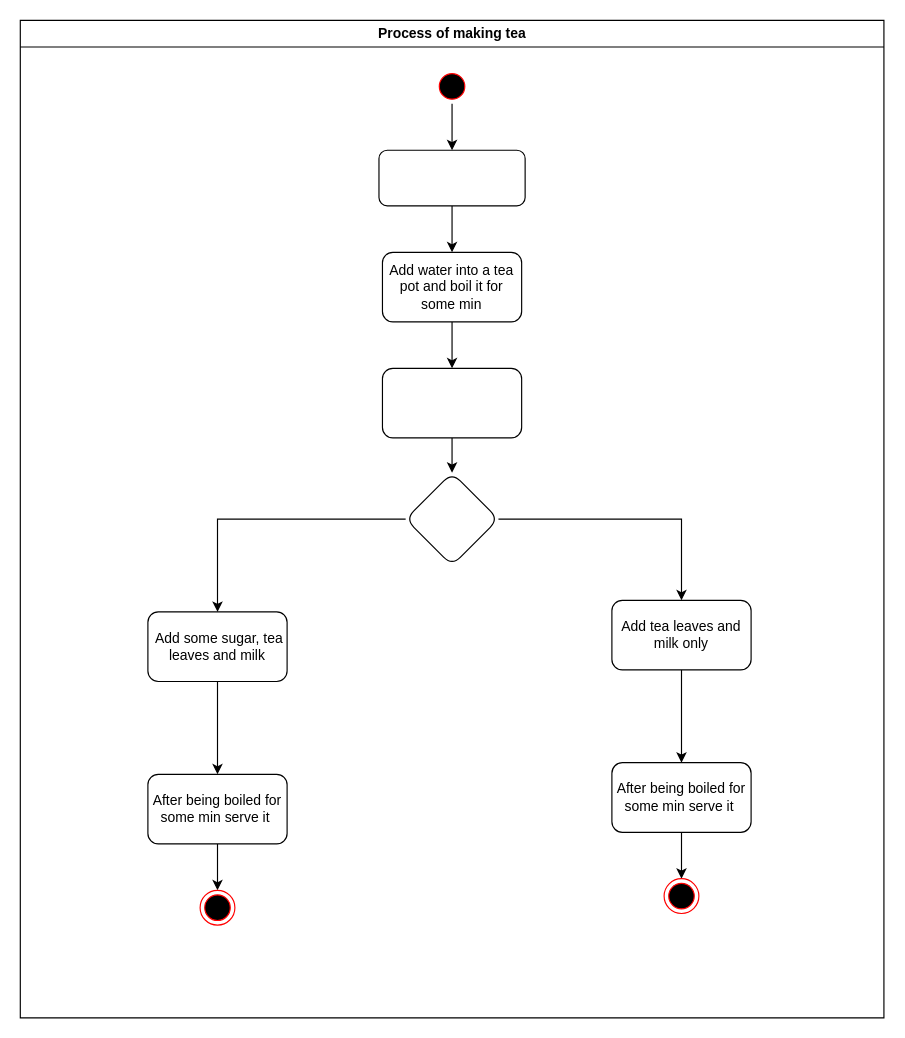
This 905x1038 diagram has some shape labels left out. Here are the shapes that lost their labels. From the top down, the centre of each, then its label:
At [451,177]: "Turn on the gas stove".
At [451,402]: "Ask people whether they want sugar or without sugar".
At [451,519]: "Required sugar?".
